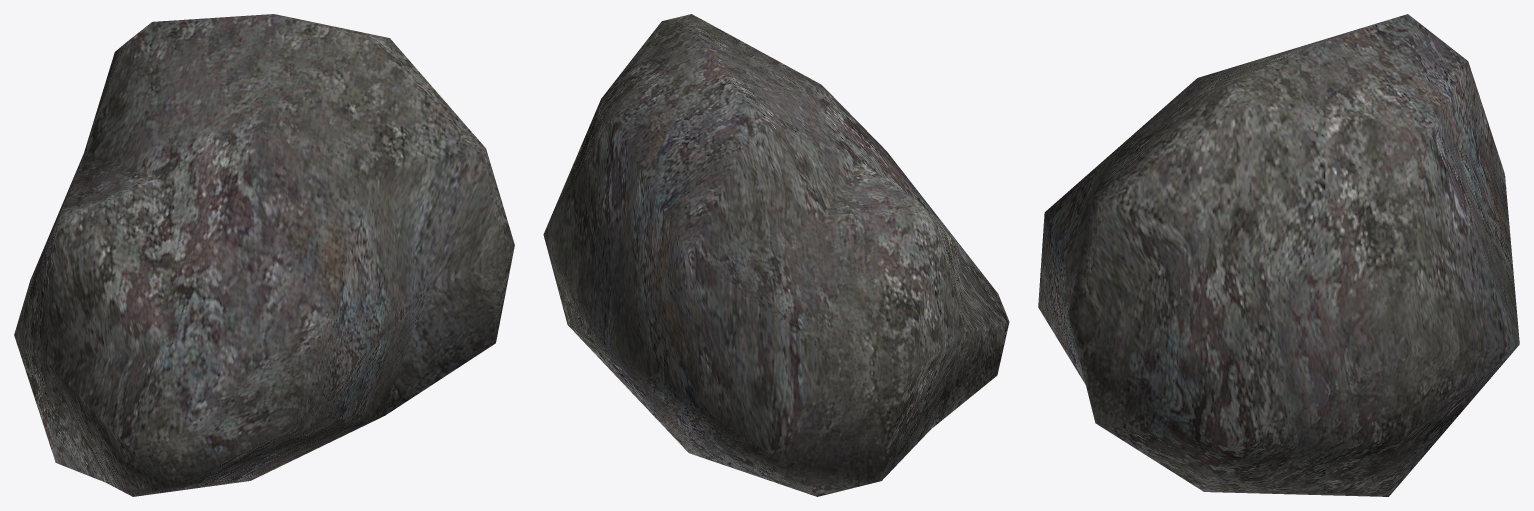
File: rock_volcanorockb_l0.fbx
The picture shows the model from 3 angles, left to right: view 1: azimuth 30°, elevation 25°; view 2: azimuth 150°, elevation 25°; view 3: azimuth 270°, elevation 25°; orthographic projection. The views are drawn at different scales.
Parts seen in each view (by area): view 1: mesh_node; view 2: mesh_node; view 3: mesh_node.
Boxes of the visible parts, x1,y1,x2,y2 form: mesh_node: (14,14,514,496); mesh_node: (543,14,1009,496); mesh_node: (1038,14,1519,496).
Bounding box in the file's own units: 5.57 × 5.53 × 5.08.
Materials: 1 (1 with a texture image).
